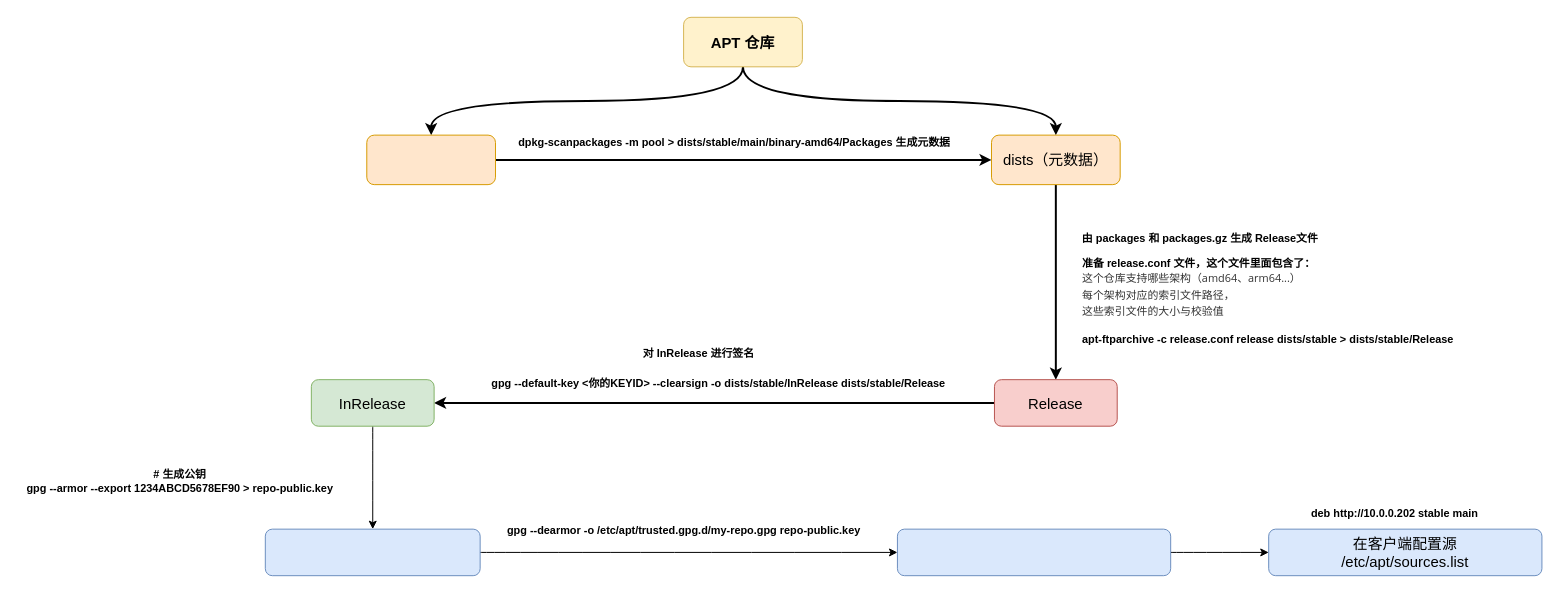
Image size: 1559x593. Some labels were removed from this diagram. Here are the shapes that lost their labels. From the top down, the box of each, then its label:
(366, 134, 495, 185): pool (软件包)
(264, 528, 480, 576): 使用key，生成公钥给客户端
(896, 528, 1171, 576): 把文本公钥“去装甲”为二进制.gpg
